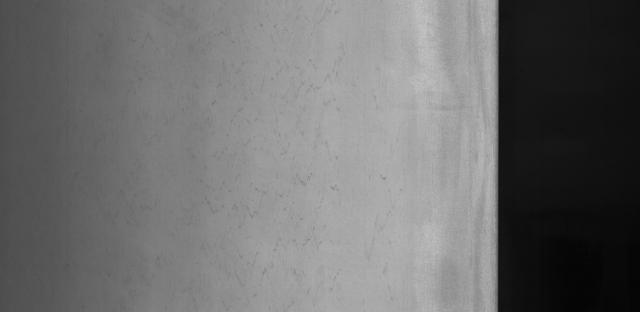silk_spot: (198, 101, 366, 296)
